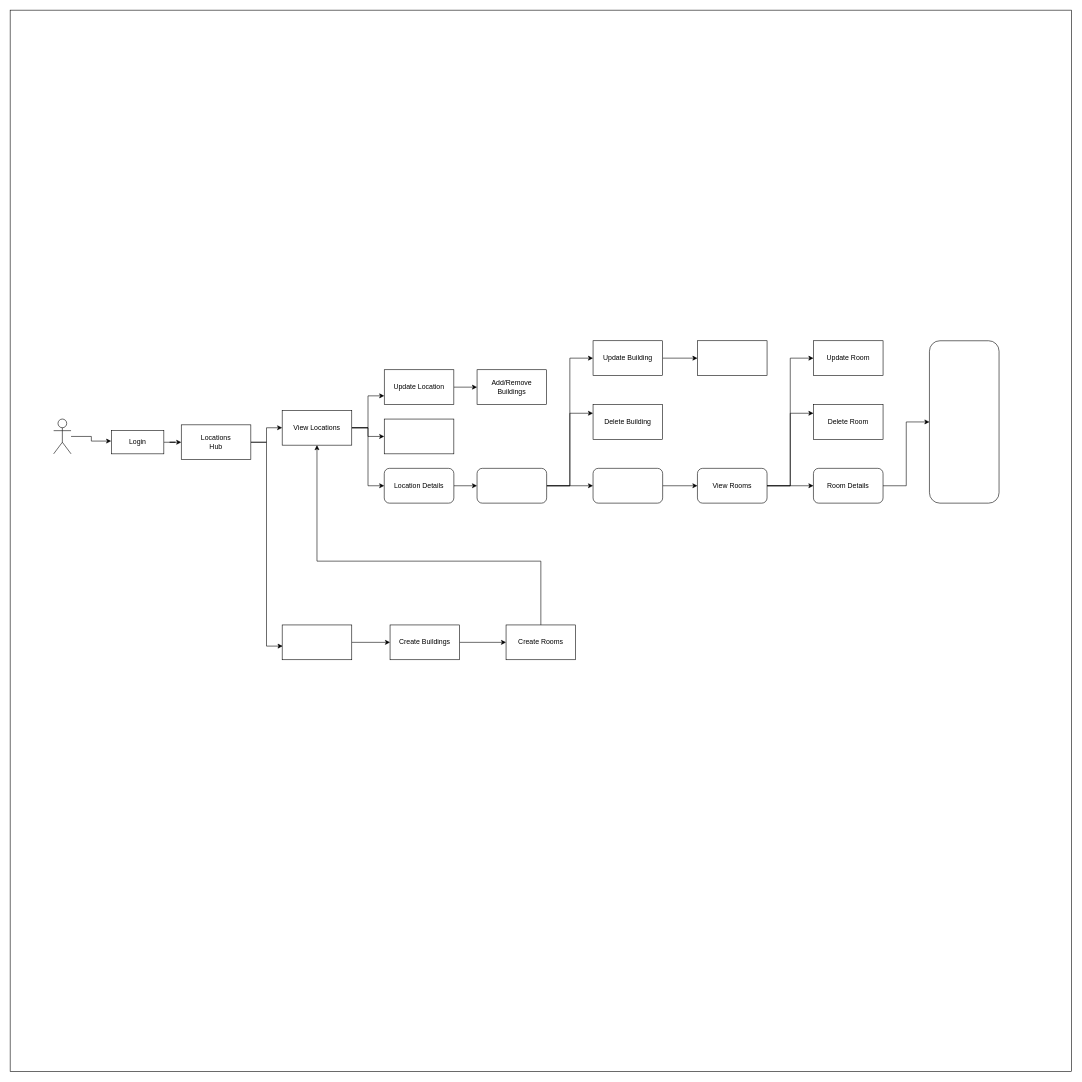
The diagram is 1082 pixels wide and 1082 high, and some of its shapes have lost their labels. Each missing label, with the centre of its shape:
Actor: pixel 62 436
Add/Remove Rooms: pixel 732 358
Building Details: pixel 627 485
Create New Location: pixel 317 642
Delete Location: pixel 419 436
Reservation System: pixel 964 421
View Buildings: pixel 511 485
